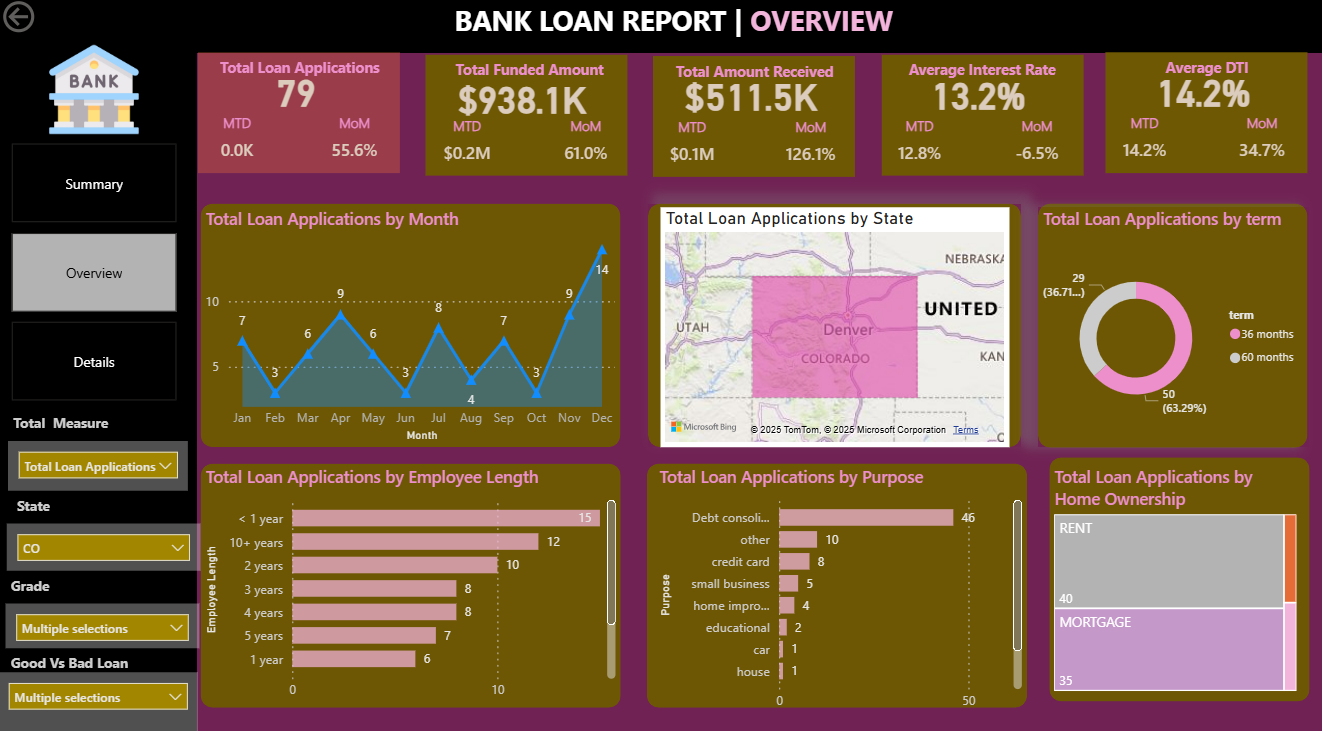

Layout of this report page (visuals, bound fields, positions):
{"tool":"powerbi","page":{"name":"Overview","canvas":[1280,720],"ordinal":1},"visuals":[{"type":"shape","box":[193.5,54.9,194.9,116.6],"z":0,"group":"g1"},{"type":"shape","box":[1069,54.9,194.9,116.6],"z":0,"group":"g5"},{"type":"shape","box":[412.5,56.3,194.9,116.6],"z":0,"group":"g2"},{"type":"shape","box":[852.9,56.3,194.9,116.6],"z":0,"group":"g3"},{"type":"shape","box":[632.6,57.8,194.9,116.6],"z":0,"group":"g4"},{"type":"shape","box":[195.4,200.3,405.4,235.3],"z":0},{"type":"shape","box":[0,0,1280.3,55],"z":1000},{"type":"card","fields":{"Values":["bank_loan_data.Total Loan Applications"]},"box":[193.5,54.9,189.4,74.1],"z":1000,"group":"g1"},{"type":"card","fields":{"Values":["bank_loan_data.Avg DTI"]},"box":[1069,54.9,189.4,74.1],"z":1000,"group":"g5"},{"type":"card","fields":{"Values":["bank_loan_data.Avg Interest Rate"]},"box":[851.5,56.3,189.4,74.1],"z":1000,"group":"g3"},{"type":"card","fields":{"Values":["bank_loan_data.Total Amount Received"]},"box":[633.2,57.6,189.4,74.1],"z":1000,"group":"g4"},{"type":"card","fields":{"Values":["bank_loan_data.Total Funded Amount"]},"box":[411,60.1,189.4,74.1],"z":1000,"group":"g2"},{"type":"shape","box":[0,54.9,192,665.5],"z":2000},{"type":"textbox","box":[193.5,54.9,196.2,34.3],"z":2000,"group":"g1"},{"type":"textbox","box":[1069,54.9,196.2,34.3],"z":2000,"group":"g5"},{"type":"textbox","box":[415.2,56.3,196.2,34.3],"z":2000,"group":"g2"},{"type":"textbox","box":[851.5,56.3,196.2,34.3],"z":2000,"group":"g3"},{"type":"textbox","box":[633.2,57.6,196.2,34.3],"z":2000,"group":"g4"},{"type":"textbox","box":[435,0,455.6,46.7],"z":3000},{"type":"card","title":"MTD","fields":{"Values":["bank_loan_data.MTD Loan Applications"]},"box":[193.5,113.9,75.5,57.6],"z":3000,"group":"g1"},{"type":"card","title":"MTD","fields":{"Values":["bank_loan_data.MTD Avg DTI"]},"box":[1069,113.9,75.5,57.6],"z":3000,"group":"g5"},{"type":"card","title":"MTD","fields":{"Values":["bank_loan_data.MTD Funded Amount"]},"box":[415.2,115.3,75.5,57.6],"z":3000,"group":"g2"},{"type":"card","title":"MTD","fields":{"Values":["bank_loan_data.MTD Avg Int Rate"]},"box":[851.5,115.3,75.5,57.6],"z":3000,"group":"g3"},{"type":"card","title":"MTD","fields":{"Values":["bank_loan_data.MTD Total Amount Received"]},"box":[633.2,116.6,75.5,57.6],"z":3000,"group":"g4"},{"type":"group","id":"g1","title":"Group 1","box":[193.5,54.9,196.2,116.6],"z":4000},{"type":"card","title":"MoM","fields":{"Values":["bank_loan_data.MoM Loan Applications"]},"box":[307.4,113.9,75.5,57.6],"z":4000,"group":"g1"},{"type":"card","title":"MoM","fields":{"Values":["bank_loan_data.MoM Avg DTI"]},"box":[1182.9,113.9,75.5,57.6],"z":4000,"group":"g5"},{"type":"card","title":"MoM","fields":{"Values":["bank_loan_data.MoM Total Funded Amount"]},"box":[529.1,115.3,75.5,57.6],"z":4000,"group":"g2"},{"type":"card","title":"MoM","fields":{"Values":["bank_loan_data.MoM Avg Int Rate"]},"box":[965.4,115.3,75.5,57.6],"z":4000,"group":"g3"},{"type":"card","title":"MoM","fields":{"Values":["bank_loan_data.MoM Total Amount Received"]},"box":[747.1,116.6,75.5,57.6],"z":4000,"group":"g4"},{"type":"group","id":"g2","title":"Group 1","box":[411,56.3,200.3,116.6],"z":5000},{"type":"group","id":"g3","title":"Group 1","box":[851.5,56.3,196.2,116.6],"z":6000},{"type":"actionButton","box":[0,0,100,40],"z":7000},{"type":"group","id":"g4","title":"Group 1","box":[632.6,57.6,197.6,116.6],"z":8000},{"type":"group","id":"g5","title":"Group 1","box":[1069,54.9,196.2,116.6],"z":9000},{"type":"slicer","fields":{"Values":["bank_loan_data.address_state"]},"box":[8.4,509.1,187,45.8],"z":10000},{"type":"slicer","fields":{"Values":["bank_loan_data.grade"]},"box":[7.2,586.3,187,43.4],"z":11000},{"type":"slicer","fields":{"Values":["bank_loan_data.Good vs Bad Loan"]},"box":[0,652.7,193,57.9],"z":12000},{"type":"textbox","box":[13.3,477.8,103.8,42.2],"z":13000},{"type":"textbox","box":[7.2,629.8,131.5,45.8],"z":14000},{"type":"textbox","box":[7.2,555,207.5,42.2],"z":15000},{"type":"areaChart","fields":{"Y":["bank_loan_data.Total Loan Applications"],"Category":["Date Table.Month"]},"box":[195.4,203.9,405.4,231.6],"z":16000},{"type":"slicer","fields":{"Values":["Select Measure.Select Measure"]},"box":[9.7,429.5,173.7,48.3],"z":17000},{"type":"textbox","box":[9.7,398.1,137.5,31.4],"z":18000},{"type":"shape","box":[627.3,200.3,360,235.3],"z":19000},{"type":"filledMap","fields":{"Y":["bank_loan_data.Total Loan Applications"],"Category":["bank_loan_data.address_state"]},"box":[640,204.3,337.1,231.4],"z":20000},{"type":"shape","box":[1004.3,200,260,235.7],"z":21000},{"type":"donutChart","fields":{"Y":["bank_loan_data.Total Loan Applications"],"Category":["bank_loan_data.term"]},"box":[1004.3,204.3,261.4,231.4],"z":22000},{"type":"shape","box":[195.7,451.4,405.7,235.7],"z":23000},{"type":"shape","box":[625.7,451.4,367.1,235.7],"z":24000},{"type":"shape","box":[1014.3,445.7,251.4,235.7],"z":25000},{"type":"barChart","fields":{"Y":["bank_loan_data.Total Loan Applications"],"Category":["bank_loan_data.emp_length"]},"box":[195.7,452.9,405.7,235.7],"z":26000},{"type":"barChart","fields":{"Y":["bank_loan_data.Total Loan Applications"],"Category":["bank_loan_data.purpose"]},"box":[632.9,452.9,360,245.7],"z":27000},{"type":"treemap","fields":{"Values":["bank_loan_data.Total Loan Applications"],"Group":["bank_loan_data.home_ownership"]},"box":[1014.6,452.4,243.7,223.2],"z":28000},{"type":"pageNavigator","box":[13.3,142.4,159.3,249.7],"z":29000},{"type":"image","box":[42.2,42.2,100.1,96.5],"z":30000}]}

Visuals, with their boxes on the page's 1280x720 design canvas (x1, y1, x2, y2). These are canvas units, not pixel positions in the 1322x731 screenshot, which may show the page scaled, cropped or inside an application window:
shape: Rect(194, 55, 388, 172)
shape: Rect(1069, 55, 1264, 172)
shape: Rect(412, 56, 607, 173)
shape: Rect(853, 56, 1048, 173)
shape: Rect(633, 58, 828, 174)
shape: Rect(195, 200, 601, 436)
shape: Rect(0, 0, 1280, 55)
card - bank_loan_data.Total Loan Applications: Rect(194, 55, 383, 129)
card - bank_loan_data.Avg DTI: Rect(1069, 55, 1258, 129)
card - bank_loan_data.Avg Interest Rate: Rect(852, 56, 1041, 130)
card - bank_loan_data.Total Amount Received: Rect(633, 58, 823, 132)
card - bank_loan_data.Total Funded Amount: Rect(411, 60, 600, 134)
shape: Rect(0, 55, 192, 720)
textbox: Rect(194, 55, 390, 89)
textbox: Rect(1069, 55, 1265, 89)
textbox: Rect(415, 56, 611, 91)
textbox: Rect(852, 56, 1048, 91)
textbox: Rect(633, 58, 829, 92)
textbox: Rect(435, 0, 891, 47)
"MTD" card: Rect(194, 114, 269, 172)
"MTD" card: Rect(1069, 114, 1144, 172)
"MTD" card: Rect(415, 115, 491, 173)
"MTD" card: Rect(852, 115, 927, 173)
"MTD" card: Rect(633, 117, 709, 174)
"Group 1" group: Rect(194, 55, 390, 172)
"MoM" card: Rect(307, 114, 383, 172)
"MoM" card: Rect(1183, 114, 1258, 172)
"MoM" card: Rect(529, 115, 605, 173)
"MoM" card: Rect(965, 115, 1041, 173)
"MoM" card: Rect(747, 117, 823, 174)
"Group 1" group: Rect(411, 56, 611, 173)
"Group 1" group: Rect(852, 56, 1048, 173)
actionButton: Rect(0, 0, 100, 40)
"Group 1" group: Rect(633, 58, 830, 174)
"Group 1" group: Rect(1069, 55, 1265, 172)
slicer - bank_loan_data.address_state: Rect(8, 509, 195, 555)
slicer - bank_loan_data.grade: Rect(7, 586, 194, 630)
slicer - bank_loan_data.Good vs Bad Loan: Rect(0, 653, 193, 711)
textbox: Rect(13, 478, 117, 520)
textbox: Rect(7, 630, 139, 676)
textbox: Rect(7, 555, 215, 597)
areaChart - bank_loan_data.Total Loan Applications x Date Table.Month: Rect(195, 204, 601, 436)
slicer - Select Measure.Select Measure: Rect(10, 430, 183, 478)
textbox: Rect(10, 398, 147, 430)
shape: Rect(627, 200, 987, 436)
filledMap - bank_loan_data.Total Loan Applications x bank_loan_data.address_state: Rect(640, 204, 977, 436)
shape: Rect(1004, 200, 1264, 436)
donutChart - bank_loan_data.Total Loan Applications x bank_loan_data.term: Rect(1004, 204, 1266, 436)
shape: Rect(196, 451, 601, 687)
shape: Rect(626, 451, 993, 687)
shape: Rect(1014, 446, 1266, 681)
barChart - bank_loan_data.Total Loan Applications x bank_loan_data.emp_length: Rect(196, 453, 601, 689)
barChart - bank_loan_data.Total Loan Applications x bank_loan_data.purpose: Rect(633, 453, 993, 699)
treemap - bank_loan_data.Total Loan Applications x bank_loan_data.home_ownership: Rect(1015, 452, 1258, 676)
pageNavigator: Rect(13, 142, 173, 392)
image: Rect(42, 42, 142, 139)
